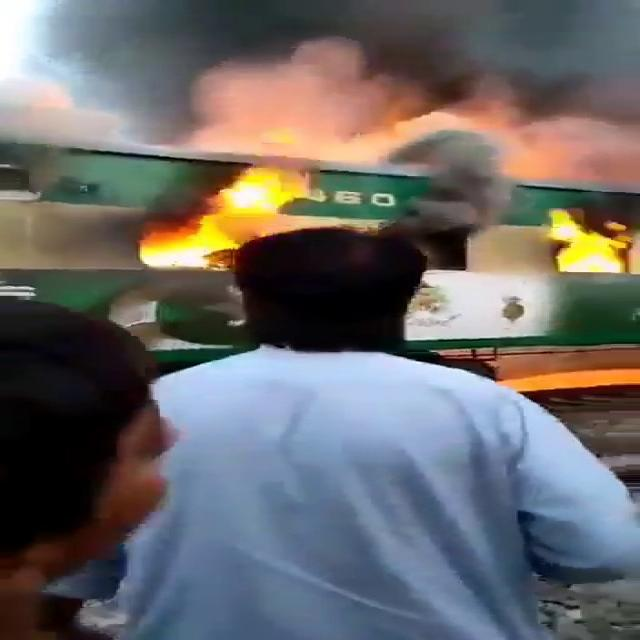Fire: (171, 72, 427, 166), (136, 168, 309, 271), (547, 208, 633, 278)
